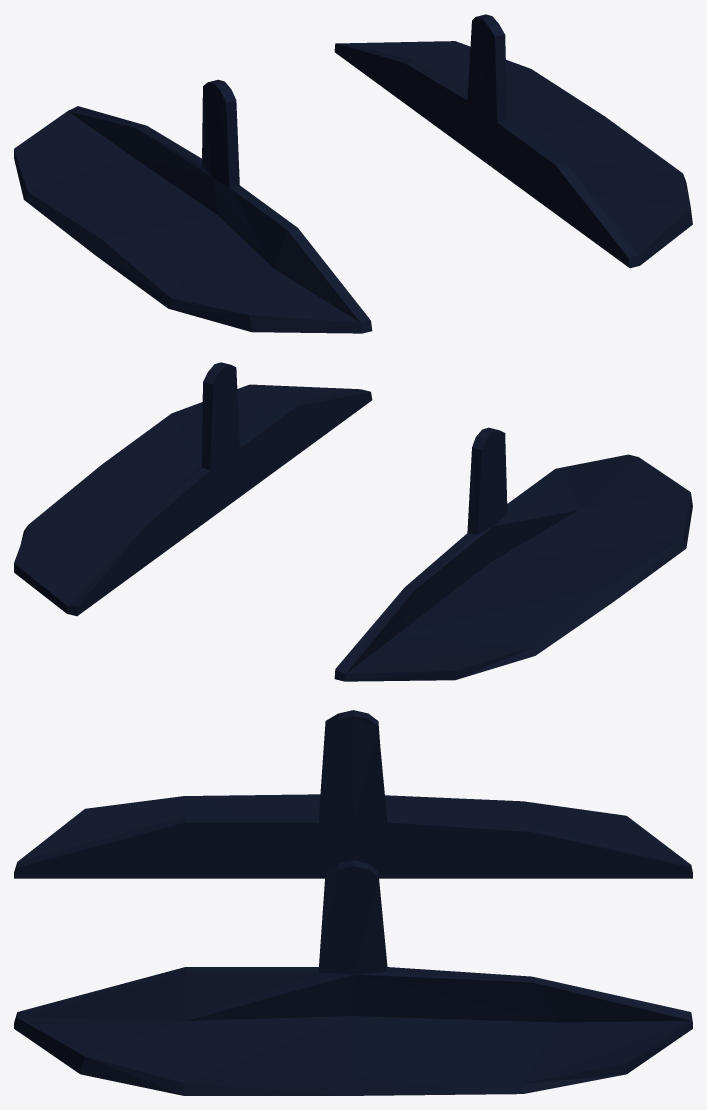
The model's file is obstacle_seesaw_frame.FBX.
3 views of the same model, one above another, from view 1: azimuth 30°, elevation 25°; view 2: azimuth 150°, elevation 25°; view 3: azimuth 270°, elevation 25° (orthographic). The views are drawn at different scales.
Parts seen in each view (by area): view 1: seesaw_holder; view 2: seesaw_holder; view 3: seesaw_holder.
Part boxes in pixels (bbox=[...]): seesaw_holder: bbox=[14, 14, 692, 333]; seesaw_holder: bbox=[14, 362, 692, 681]; seesaw_holder: bbox=[14, 710, 692, 1095].
Size of the model in its own units: 8.11 by 2.12 by 8.
